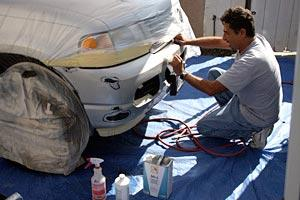person: (170, 7, 282, 150)
